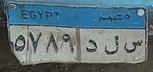5: (13, 34, 26, 53)
7: (28, 29, 42, 54)
8: (44, 30, 59, 55)
9: (61, 32, 75, 53)
daal: (83, 36, 98, 55)
laam: (102, 32, 120, 58)
seen: (122, 37, 143, 56)
